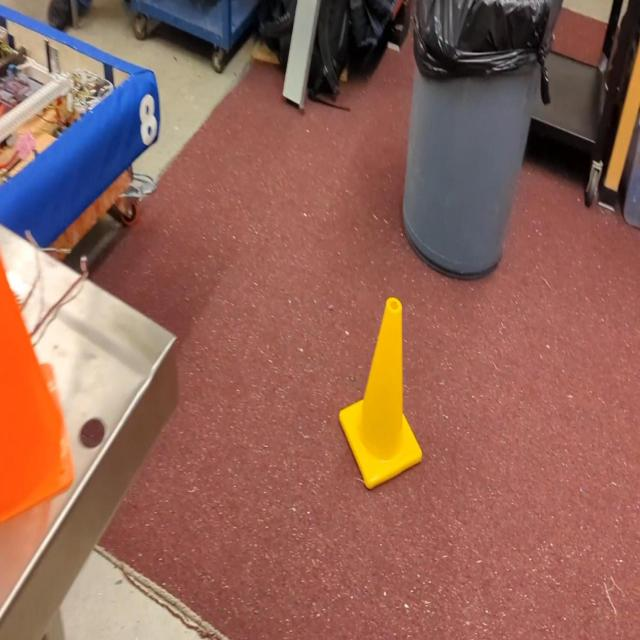frc_cone: (338, 294, 423, 491)
